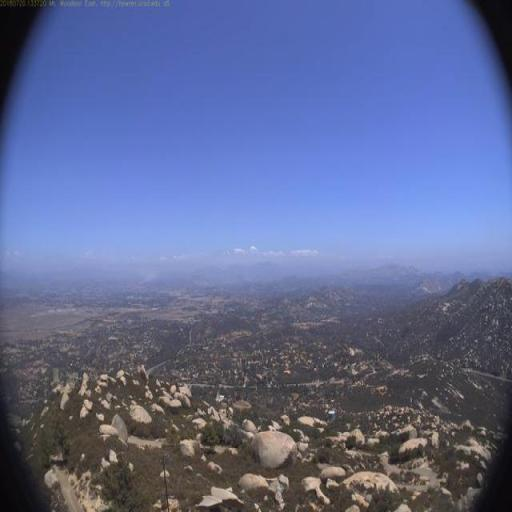smoke: (410, 269, 464, 297)
